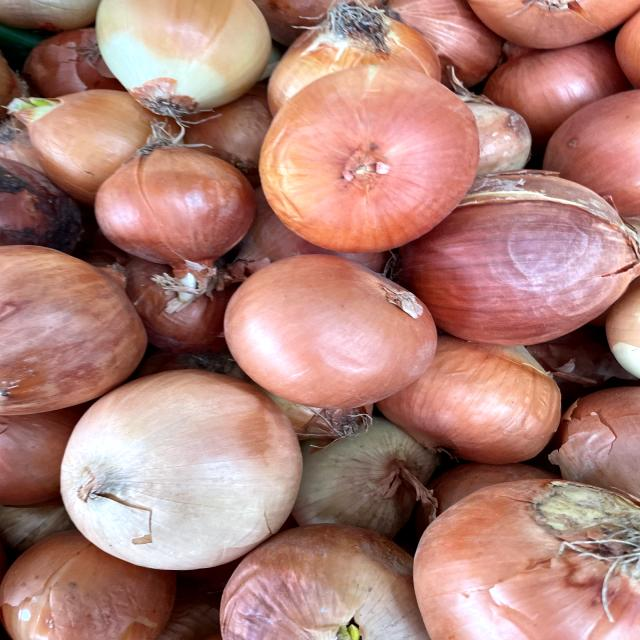onion: (40, 352, 317, 573), (244, 63, 492, 258), (208, 244, 453, 406), (84, 129, 253, 292), (92, 0, 277, 124)
